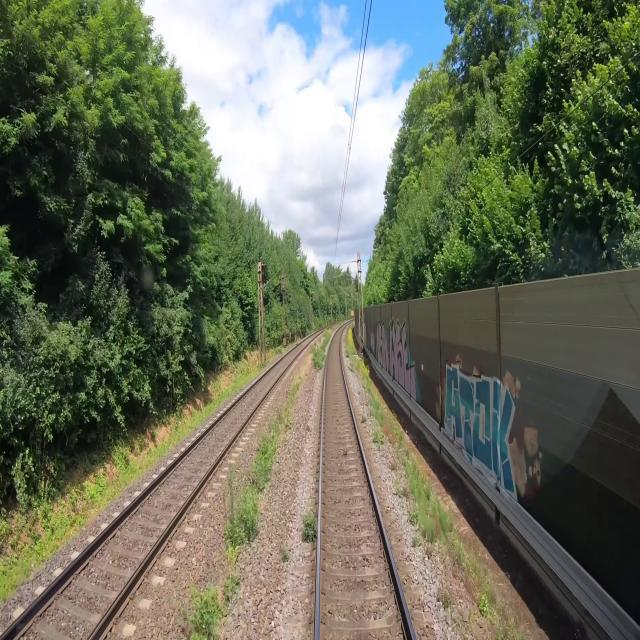Plant: (351, 356, 402, 447), (404, 460, 454, 545), (224, 491, 259, 562), (252, 411, 280, 489), (187, 586, 227, 639), (448, 539, 487, 589), (311, 331, 331, 372), (284, 380, 299, 430), (223, 574, 242, 600), (494, 617, 515, 638), (302, 511, 316, 542), (345, 328, 358, 354), (478, 592, 491, 618), (438, 591, 451, 608), (395, 448, 408, 464), (409, 508, 419, 524), (388, 457, 397, 473), (281, 550, 291, 564), (394, 486, 405, 498), (373, 431, 383, 444), (361, 411, 369, 426), (414, 536, 420, 550), (347, 364, 354, 373), (345, 353, 350, 360)
